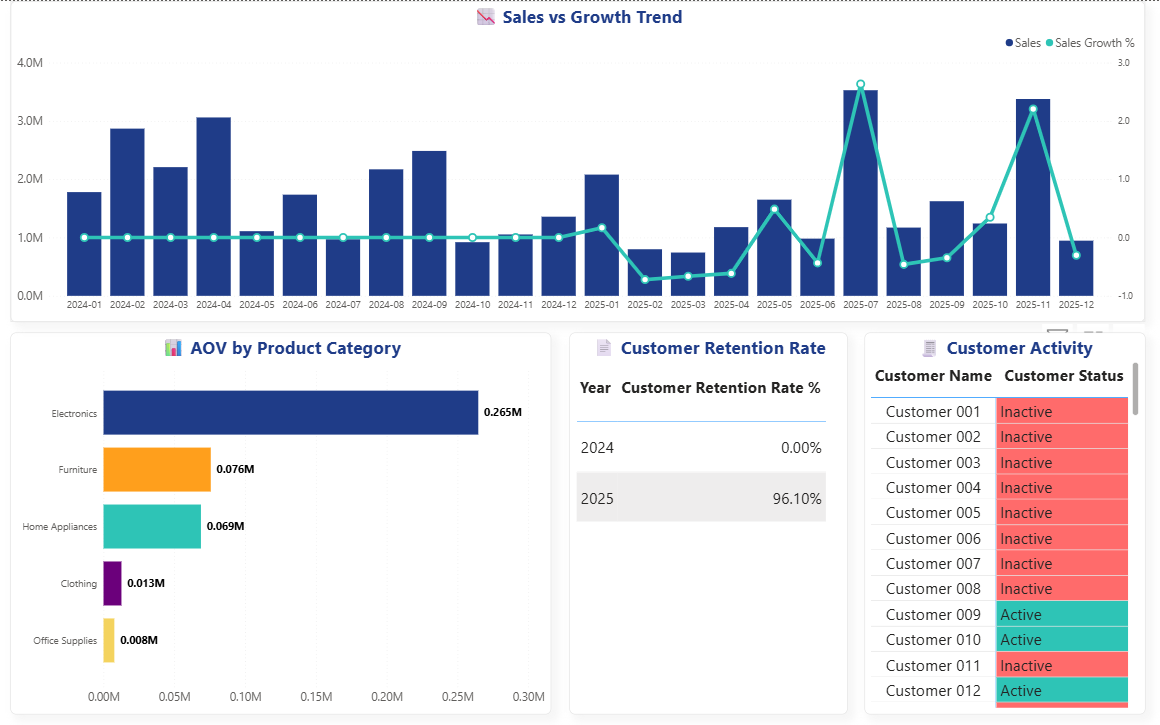

This screenshot's page, from the dashboard's own definition file:
{"tool":"powerbi","page":{"name":"Detailed Analysis","canvas":[1600,1000],"ordinal":1},"visuals":[{"type":"clusteredBarChart","title":"📊 AOV by Product Category","fields":{"Category":["Fact_Sales.Product Category"],"Y":["Fact_Sales.AOV"]},"box":[14.3,457.3,746.1,527.3],"z":0},{"type":"lineClusteredColumnComboChart","title":"📉 Sales vs Growth Trend","fields":{"Category":["DateTable.Year-Month"],"Y":["Fact_Sales.Total Sales"],"Y2":["Fact_Sales.Sales Growth %"]},"box":[14.3,0,1565.7,443],"z":1000},{"type":"tableEx","title":"📄 Customer Retention Rate","fields":{"Values":["DateTable.Year","Fact_Sales.Customer Retention Rate %"]},"box":[784.6,457.3,383.8,527.3],"z":2000},{"type":"pivotTable","title":"🧾 Customer Activity","fields":{"Rows":["Fact_Sales.Customer Name"],"Values":["Min(Fact_Sales.Customer Status Column)"]},"box":[1192.7,457.3,387.4,527.3],"z":3000}]}

Visuals, with their boxes in screenshot pixels (x1, y1, x2, y2), scaled from the page's 1600x1000 canvas onto the 1160x725 screenshot:
"📊 AOV by Product Category" clusteredBarChart: [left=10, top=332, right=551, bottom=714]
"📉 Sales vs Growth Trend" lineClusteredColumnComboChart: [left=10, top=0, right=1146, bottom=321]
"📄 Customer Retention Rate" tableEx: [left=569, top=332, right=847, bottom=714]
"🧾 Customer Activity" pivotTable: [left=865, top=332, right=1146, bottom=714]
